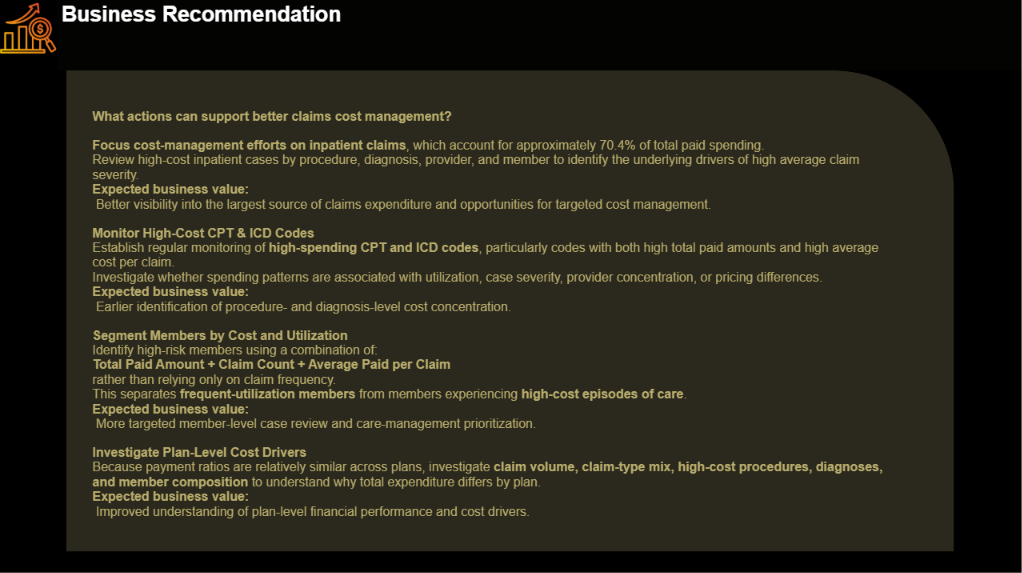

The dashboard page shown, as its layout file describes it:
{"tool":"powerbi","page":{"name":"Recommendation","canvas":[1280,720],"ordinal":4},"visuals":[{"type":"group","id":"g1","title":"Group 3","box":[0,0,1280.3,90.6],"z":0},{"type":"textbox","box":[74.1,0,1206.2,90.6],"z":1000,"group":"g1"},{"type":"image","box":[0,0,74.1,74.1],"z":3000,"group":"g1"},{"type":"shape","box":[85.3,90.1,1109.5,601.6],"z":10501},{"type":"textbox","box":[112.9,116.5,1006.2,557.1],"z":10502}]}

Visuals, with their boxes in screenshot pixels (x1, y1, x2, y2), scaled from the page's 1280x720 canvas onto the 1022x573 screenshot:
"Group 3" group: [x1=0, y1=0, x2=1021, y2=72]
textbox: [x1=59, y1=0, x2=1021, y2=72]
image: [x1=0, y1=0, x2=59, y2=59]
shape: [x1=68, y1=72, x2=954, y2=550]
textbox: [x1=90, y1=93, x2=894, y2=536]
